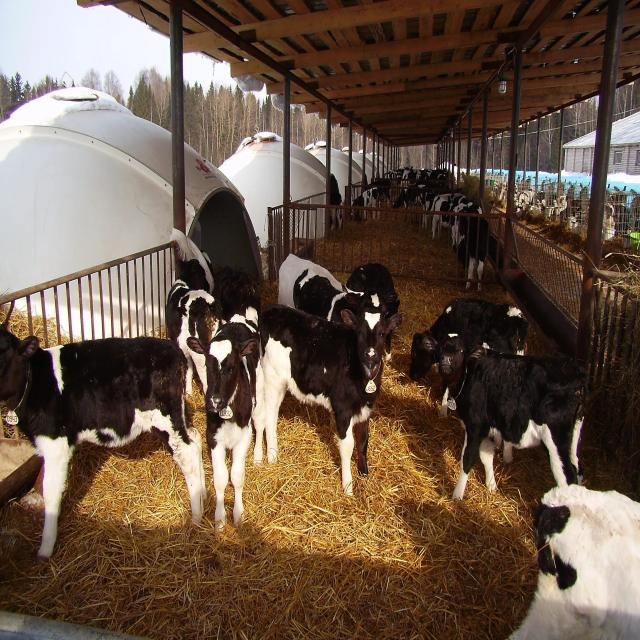cow: (0, 324, 206, 565), (258, 298, 402, 497), (439, 337, 590, 501), (507, 483, 639, 639), (187, 320, 264, 533), (409, 296, 529, 418), (277, 252, 402, 360), (165, 278, 222, 397), (345, 262, 401, 360), (449, 197, 494, 291)
